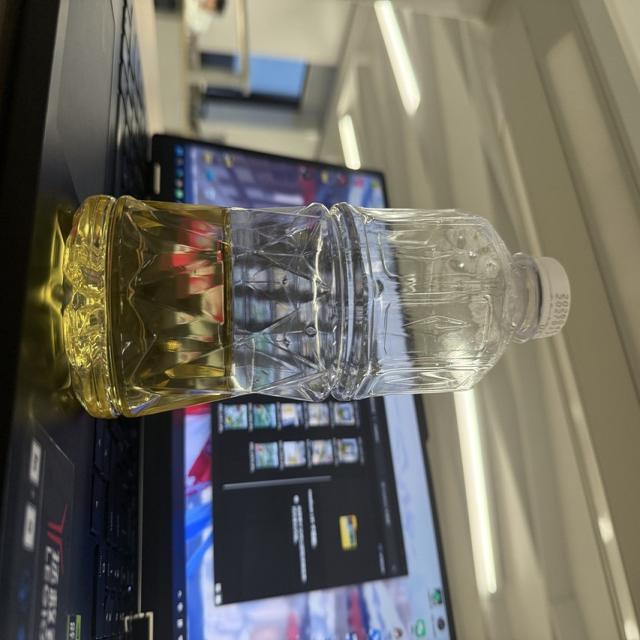low: (62, 196, 569, 417)
